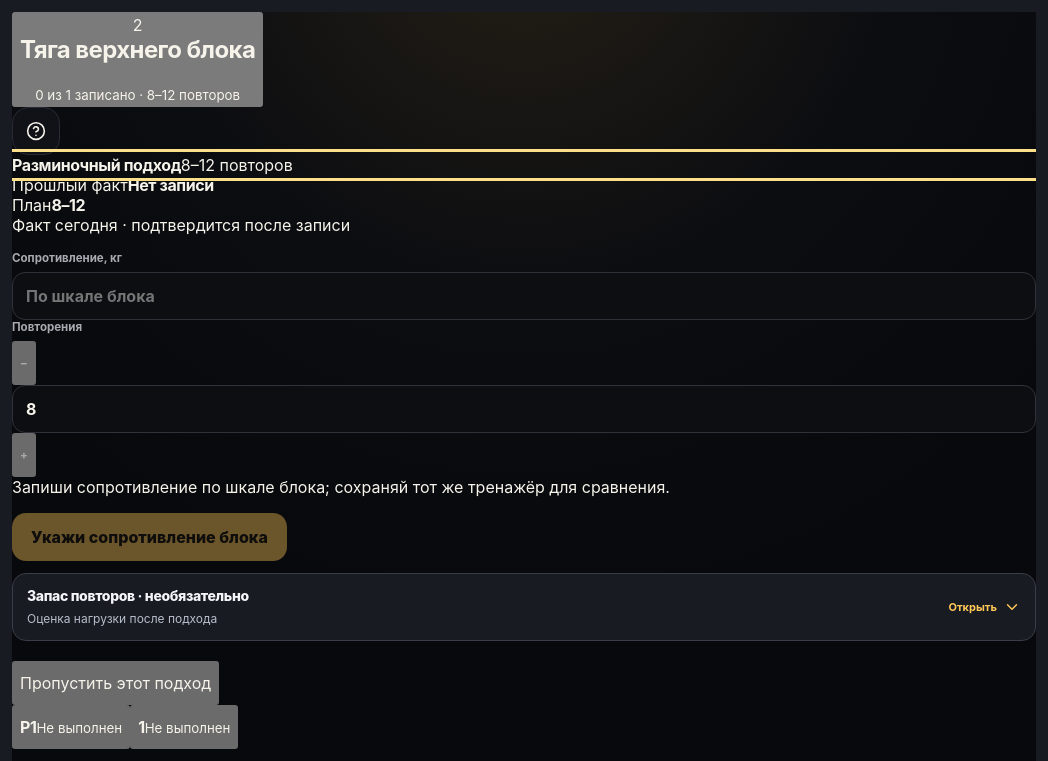
Test: exercise card › keeps work-set comparisons aligned when a warmup is inserted
This screenshot has width=1048, height=761.
Expected: the number field named "разминка 1, вес кг" is not empty, [12,272,1036,320]
Click the button with aria-label "Подход 1 · не выполнен": x=184, y=726 [130,704,238,748]
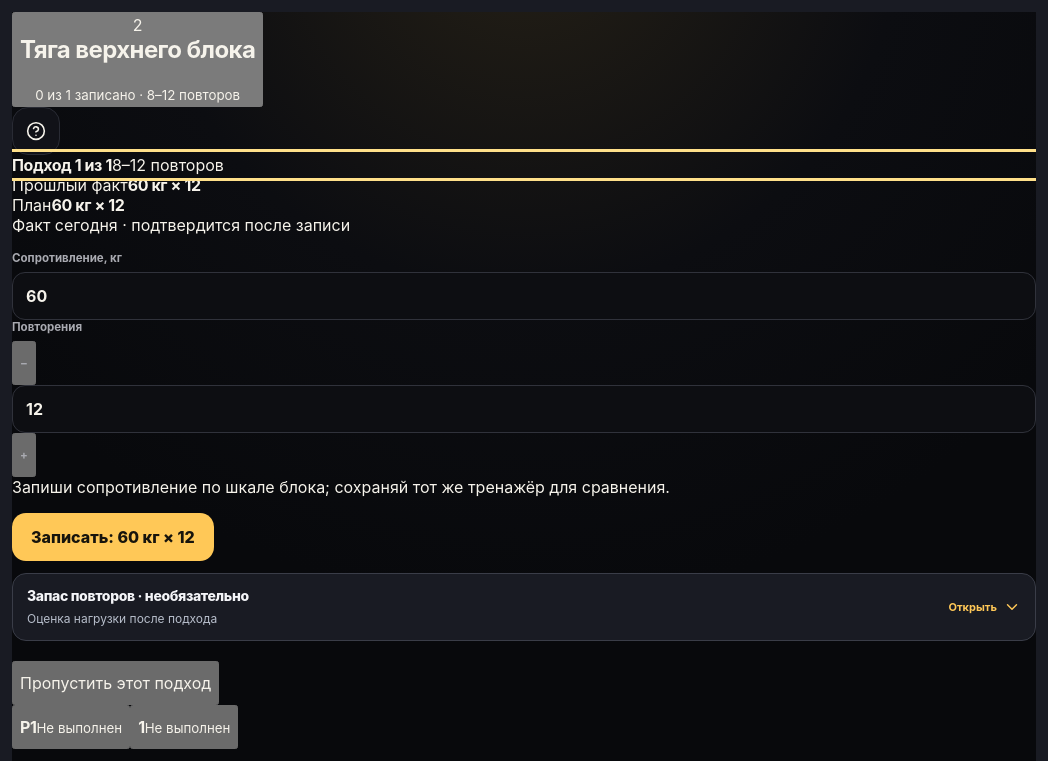
Expected: the number field named "подход 1, вес кг" holds "60", [12,272,1036,320]
Expected: the text "60 кг × 12" next to "Прошлый факт" is shown, [128,175,201,195]
